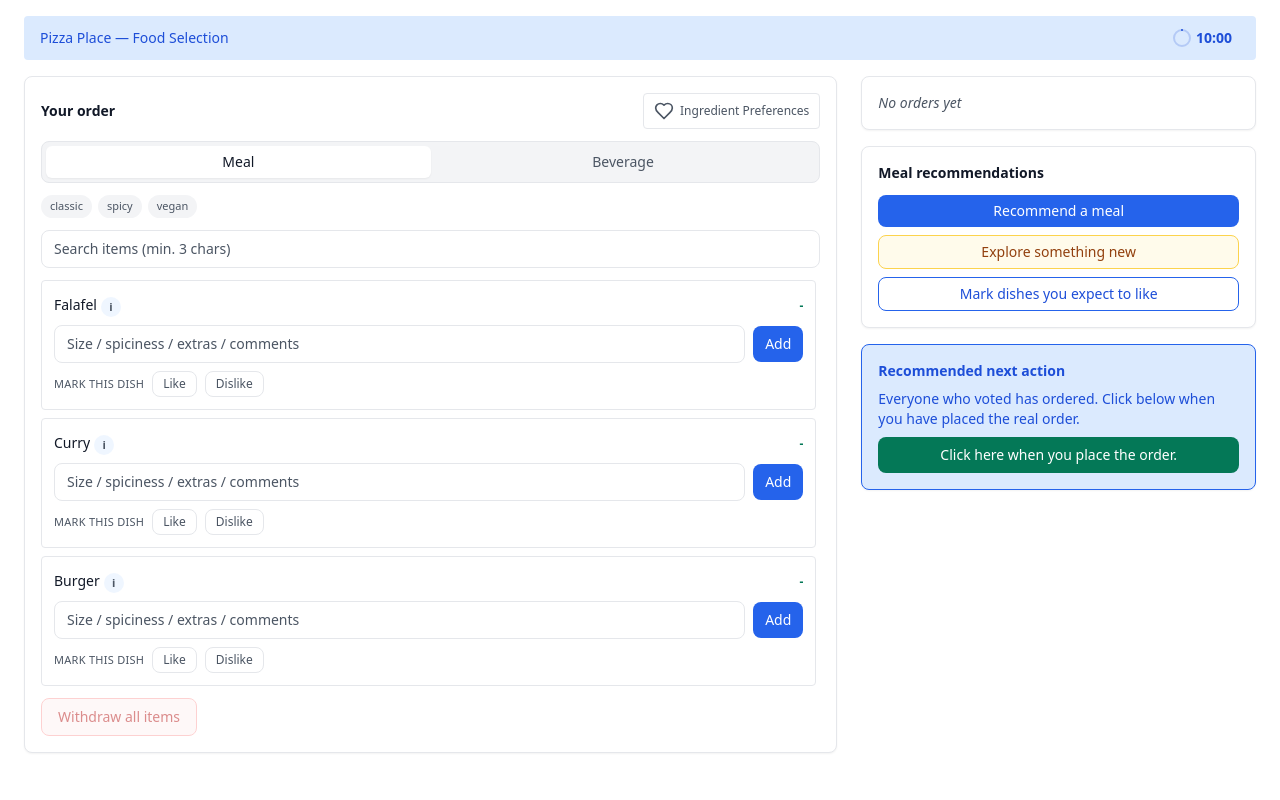
it: FoodSelectionActiveView › filters the active tab by selected tags using OR semantics
The width and height of the screenshot is (1280, 800).
Click the button "vegan". click: (172, 206)
box: [148,195,197,218]
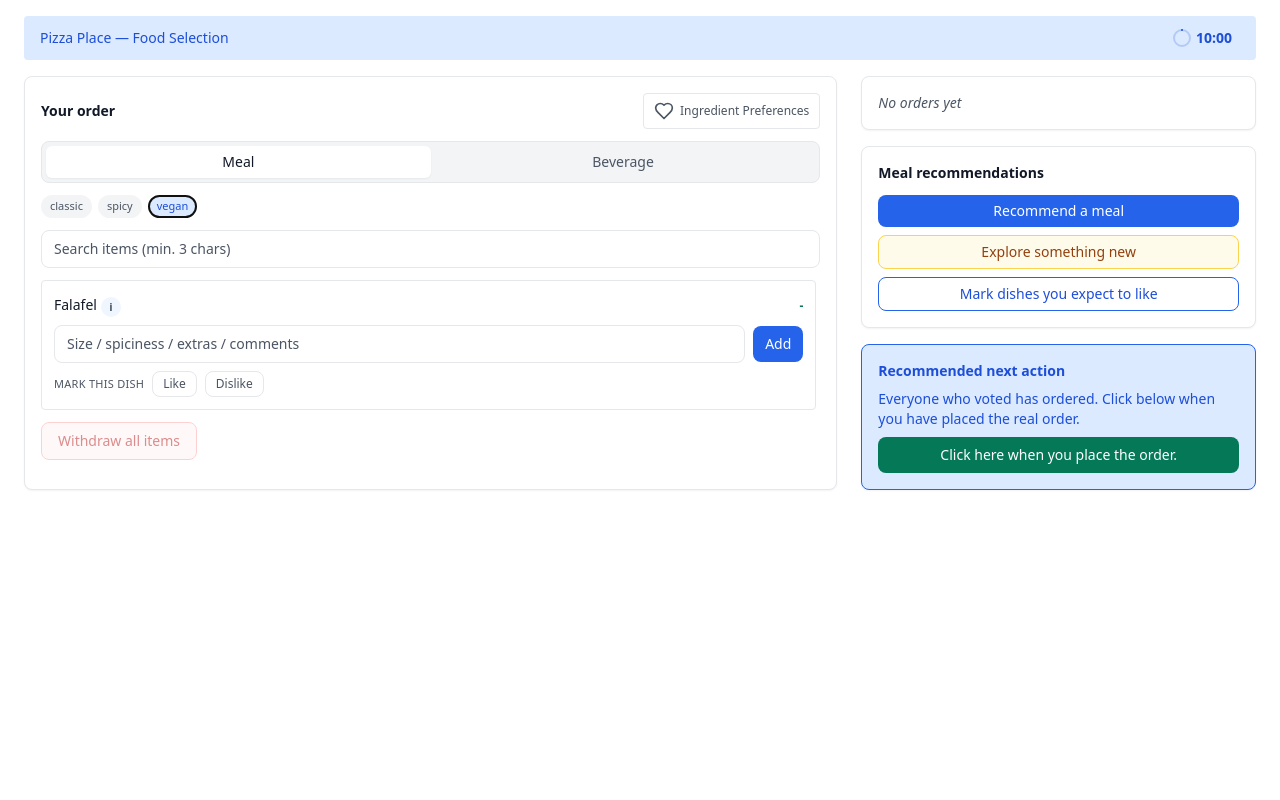
Click the button "spicy". click: (120, 206)
box: [98,195,142,218]
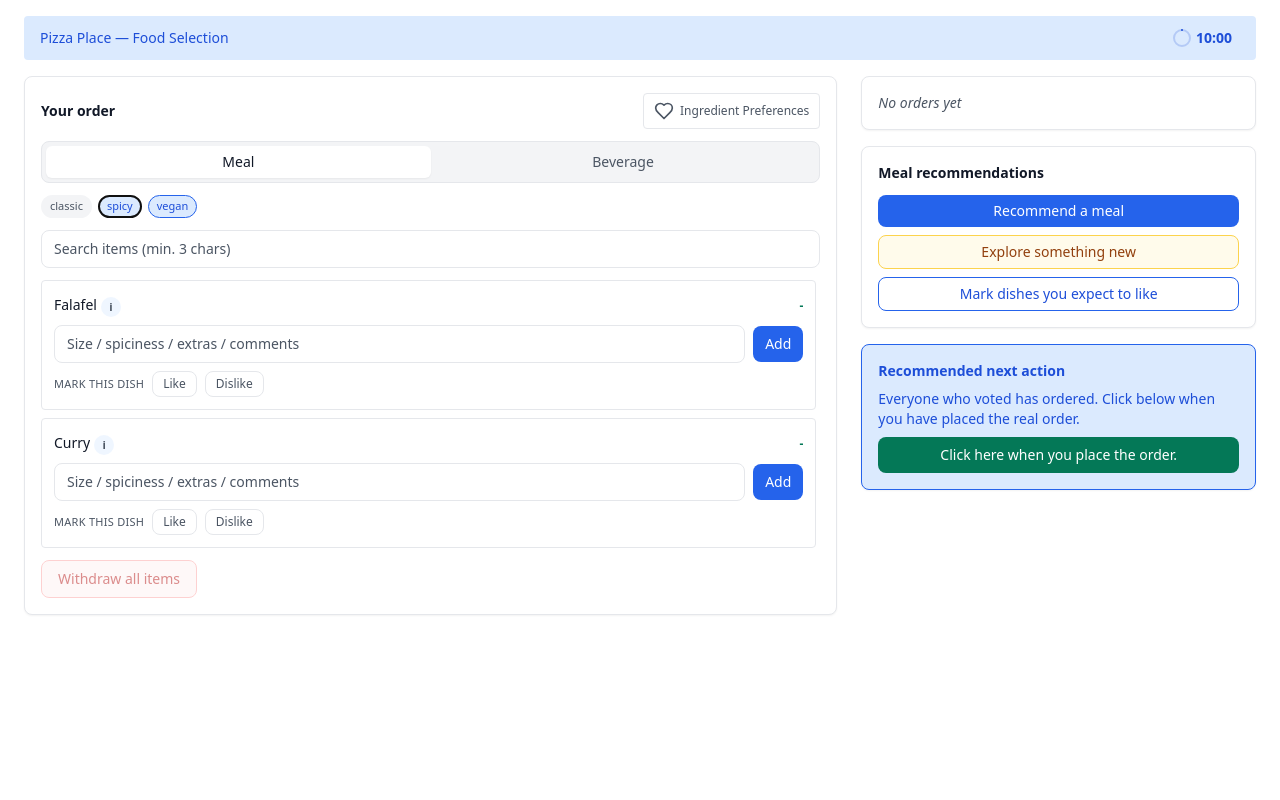
Expected: the text "Falafel" is shown, [54,295,97,314]
Expected: the text "Curry" is shown, [54,433,90,452]
